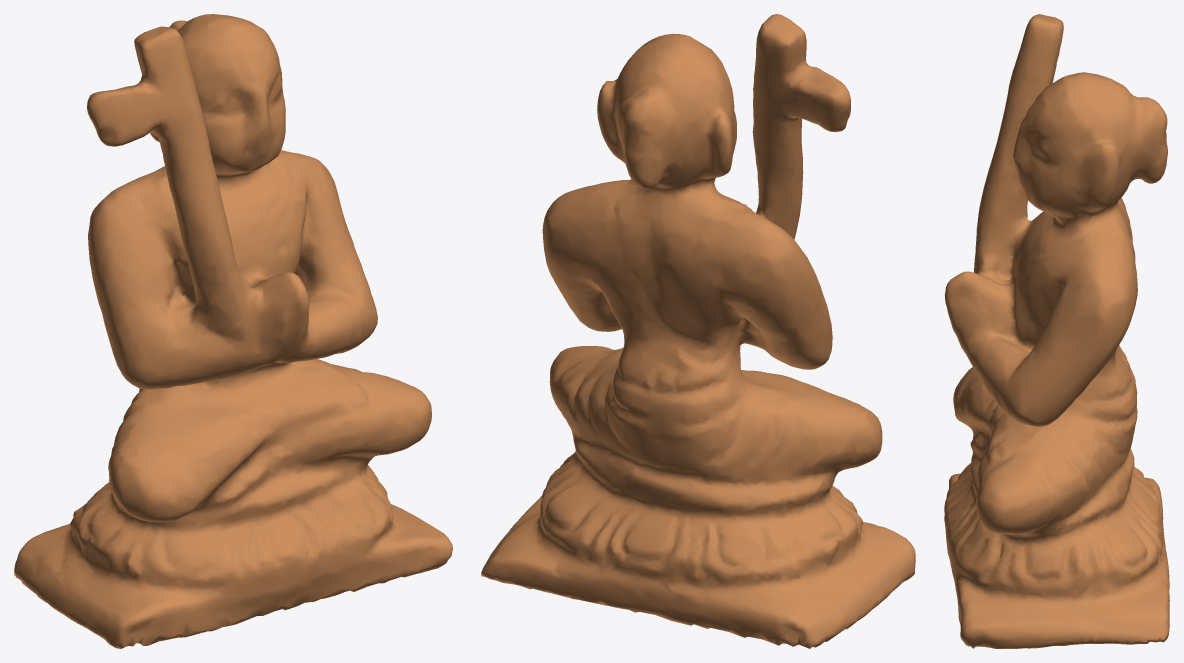
The model's file is Vainavam_Ramanujar_24.glb.
3 views of the same model, side by side, from view 1: azimuth 30°, elevation 25°; view 2: azimuth 150°, elevation 25°; view 3: azimuth 270°, elevation 25° (orthographic). The views are drawn at different scales.
Parts seen in each view (by area): view 1: Vainavam_Ramanujar_24; view 2: Vainavam_Ramanujar_24; view 3: Vainavam_Ramanujar_24.
Part boxes in pixels (x1,y1,x2,y2): Vainavam_Ramanujar_24: [14, 14, 452, 648]; Vainavam_Ramanujar_24: [481, 14, 915, 648]; Vainavam_Ramanujar_24: [944, 14, 1169, 648].
Bounding box in the file's own units: 0.3541 × 0.5487 × 0.2149.
